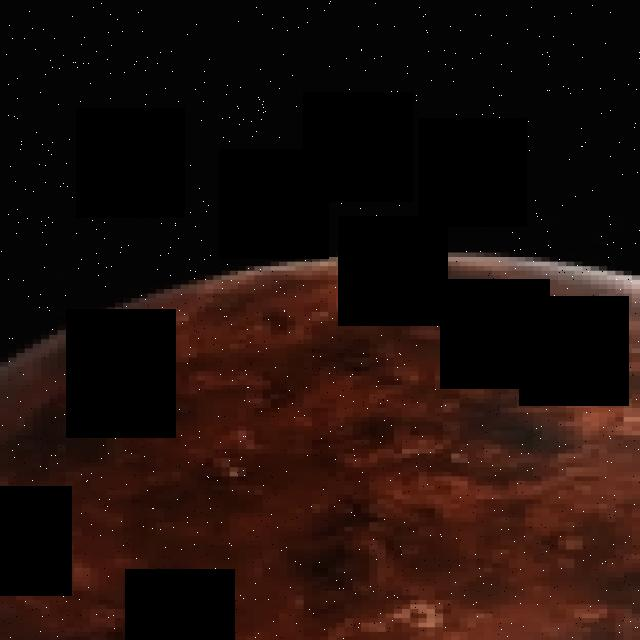Venus: (0, 252, 640, 640)
